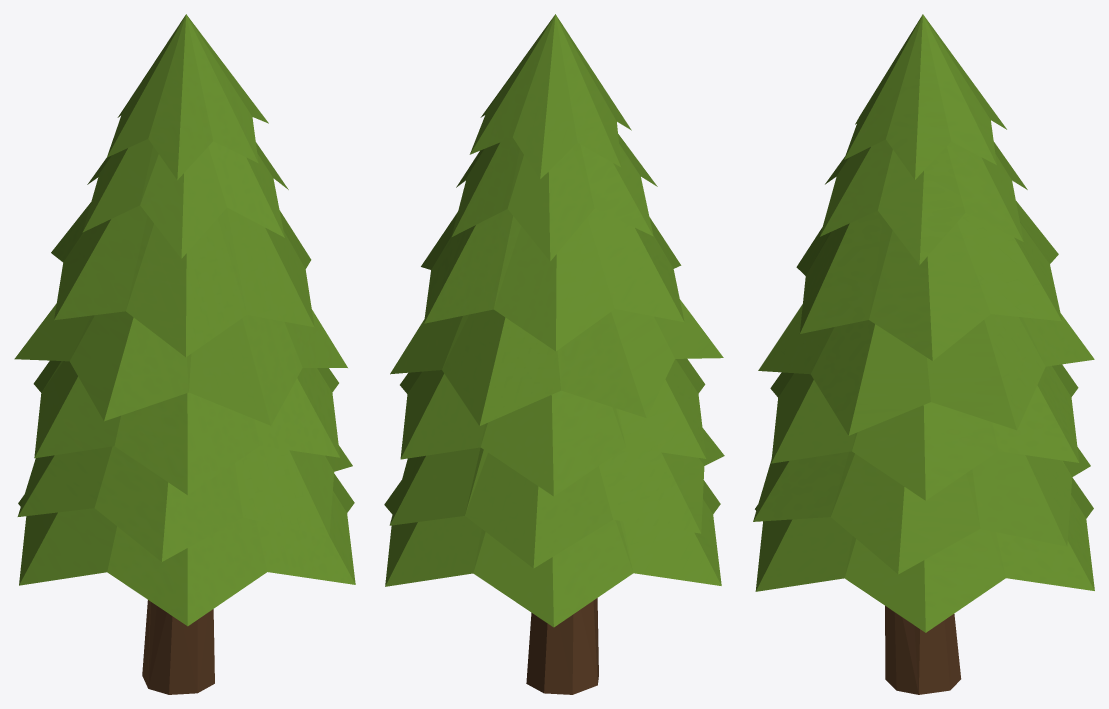
The model's file is Tree_01.fbx.
3 renders of one model, left to right at view 1: azimuth 30°, elevation 25°; view 2: azimuth 150°, elevation 25°; view 3: azimuth 270°, elevation 25°, orthographic.
Visible parts, largest first — view 1: Tree_01; view 2: Tree_01; view 3: Tree_01.
Boxes of the visible parts, <box> form: Tree_01: <box>14,14,355,694</box>; Tree_01: <box>384,14,724,694</box>; Tree_01: <box>753,14,1094,694</box>.
Size of the model in its own units: 5.29 by 9.96 by 4.61.
